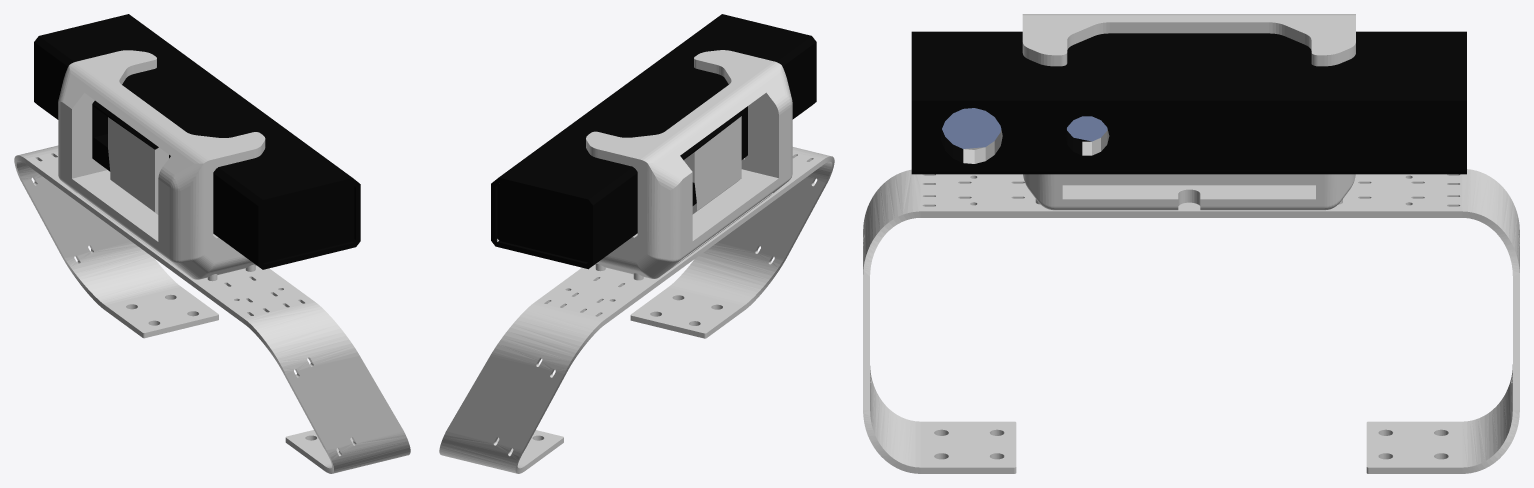
Rendered from kinect2_assembly.dae.
3 views of the same model, side by side, from view 1: azimuth 30°, elevation 25°; view 2: azimuth 150°, elevation 25°; view 3: azimuth 270°, elevation 25° (orthographic). The views are drawn at different scales.
Visible parts, largest first — view 1: Kinect2 Assembly; view 2: Kinect2 Assembly; view 3: Kinect2 Assembly.
Part boxes in pixels (<box>): Kinect2 Assembly: <box>14,14,410,473</box>; Kinect2 Assembly: <box>439,14,834,473</box>; Kinect2 Assembly: <box>863,14,1519,473</box>.
Size of the model in its own units: 113 by 296 by 183.
